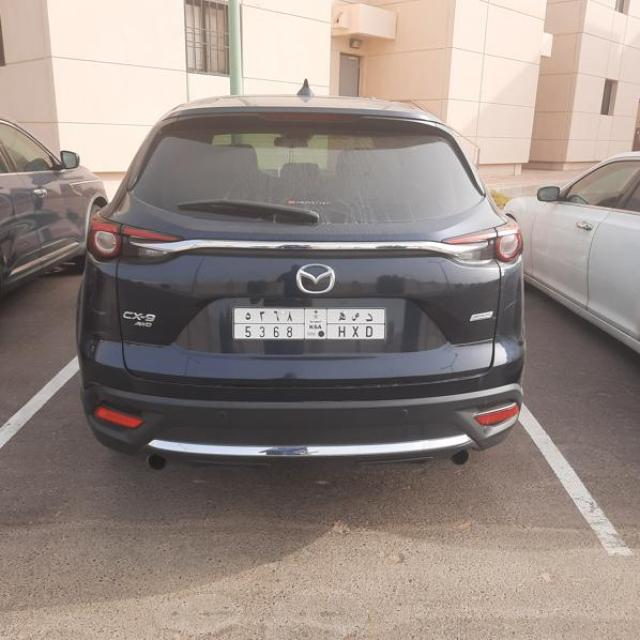license_plate: (232, 307, 390, 344)
